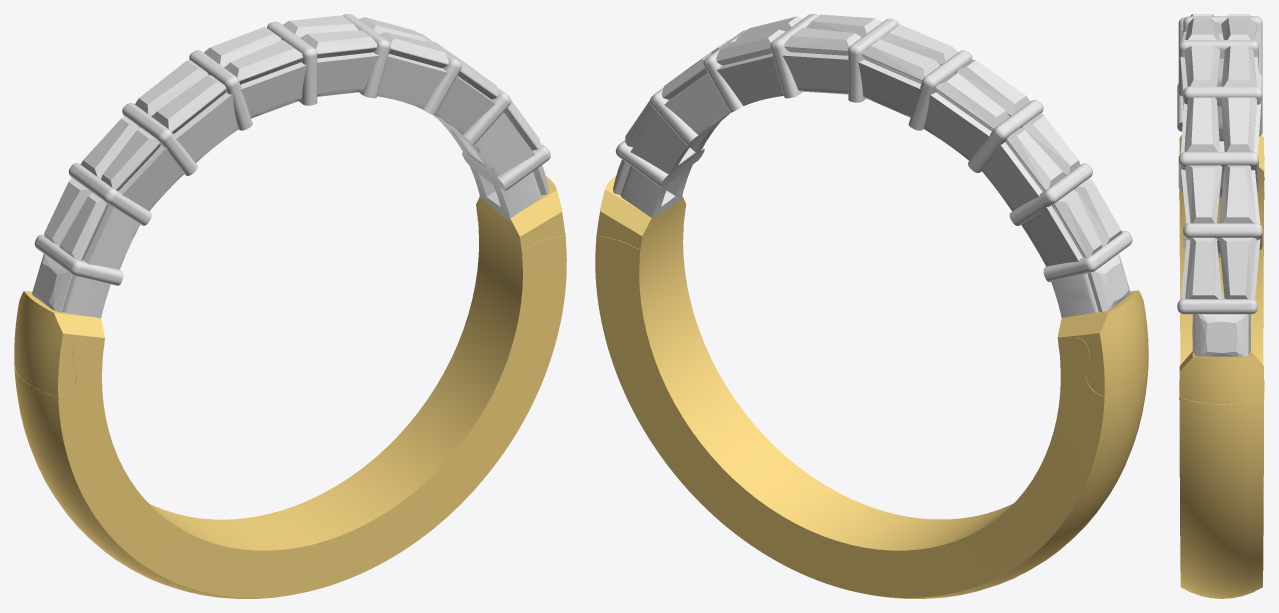
File: Karen_YG_PT_blender.glb
3 renders of one model, left to right at view 1: azimuth 30°, elevation 25°; view 2: azimuth 150°, elevation 25°; view 3: azimuth 270°, elevation 25°, orthographic. The views are drawn at different scales.
Parts seen in each view (by area): view 1: Karen YG for 3d model, Karen PT for 3d model, Karen dia for 3d model.009, Karen dia for 3d model.008, Karen dia for 3d model.011, Karen dia for 3d model.015, Karen dia for 3d model.010, Karen dia for 3d model.016, Karen dia for 3d model, Karen dia for 3d model.014, Karen dia for 3d model.012, Karen dia for 3d model.013 (+2 smaller); view 2: Karen YG for 3d model, Karen PT for 3d model, Karen dia for 3d model.010, Karen dia for 3d model.013, Karen dia for 3d model.014, Karen dia for 3d model.009, Karen dia for 3d model.012, Karen dia for 3d model.005, Karen dia for 3d model.016, Karen dia for 3d model.011, Karen dia for 3d model.015, Karen dia for 3d model.008 (+3 smaller); view 3: Karen YG for 3d model, Karen PT for 3d model, Karen dia for 3d model.017, Karen dia for 3d model.004, Karen dia for 3d model.007, Karen dia for 3d model.003, Karen dia for 3d model.006, Karen dia for 3d model.002, Karen dia for 3d model.001, Karen dia for 3d model, Karen dia for 3d model.005, Karen dia for 3d model.013 (+1 smaller).
Part boxes in pixels (x1=…): Karen YG for 3d model: x1=14, y1=176, x2=566, y2=598; Karen PT for 3d model: x1=34, y1=14, x2=550, y2=318; Karen dia for 3d model.009: x1=152, y1=75, x2=226, y2=133; Karen dia for 3d model.008: x1=225, y1=40, x2=303, y2=84; Karen dia for 3d model.011: x1=101, y1=127, x2=160, y2=190; Karen dia for 3d model.015: x1=59, y1=192, x2=108, y2=260; Karen dia for 3d model.010: x1=135, y1=60, x2=208, y2=116; Karen dia for 3d model.016: x1=32, y1=254, x2=74, y2=312; Karen dia for 3d model: x1=300, y1=30, x2=377, y2=58; Karen dia for 3d model.014: x1=80, y1=116, x2=139, y2=178; Karen dia for 3d model.012: x1=44, y1=178, x2=91, y2=245; Karen dia for 3d model.013: x1=204, y1=27, x2=281, y2=67; Karen YG for 3d model: x1=595, y1=175, x2=1148, y2=598; Karen PT for 3d model: x1=615, y1=14, x2=1132, y2=317; Karen dia for 3d model.010: x1=935, y1=72, x2=1009, y2=131; Karen dia for 3d model.013: x1=862, y1=39, x2=940, y2=83; Karen dia for 3d model.014: x1=1005, y1=128, x2=1065, y2=191; Karen dia for 3d model.009: x1=956, y1=60, x2=1030, y2=116; Karen dia for 3d model.012: x1=1052, y1=189, x2=1101, y2=257; Karen dia for 3d model.005: x1=784, y1=27, x2=861, y2=55; Karen dia for 3d model.016: x1=1087, y1=253, x2=1130, y2=312; Karen dia for 3d model.011: x1=1022, y1=113, x2=1080, y2=175; Karen dia for 3d model.015: x1=1074, y1=178, x2=1121, y2=245; Karen dia for 3d model.008: x1=880, y1=24, x2=957, y2=64; Karen YG for 3d model: x1=1179, y1=135, x2=1264, y2=598; Karen PT for 3d model: x1=1177, y1=16, x2=1262, y2=354; Karen dia for 3d model.017: x1=1195, y1=314, x2=1248, y2=356; Karen dia for 3d model.004: x1=1219, y1=237, x2=1256, y2=299; Karen dia for 3d model.007: x1=1185, y1=237, x2=1222, y2=299; Karen dia for 3d model.003: x1=1185, y1=165, x2=1222, y2=223; Karen dia for 3d model.006: x1=1219, y1=165, x2=1256, y2=223; Karen dia for 3d model.002: x1=1221, y1=97, x2=1256, y2=151; Karen dia for 3d model.001: x1=1184, y1=97, x2=1220, y2=151; Karen dia for 3d model: x1=1184, y1=46, x2=1220, y2=86; Karen dia for 3d model.005: x1=1221, y1=46, x2=1256, y2=86; Karen dia for 3d model.013: x1=1221, y1=17, x2=1257, y2=39.
Size of the model in its own units: 19.47 by 19.42 by 2.88.
